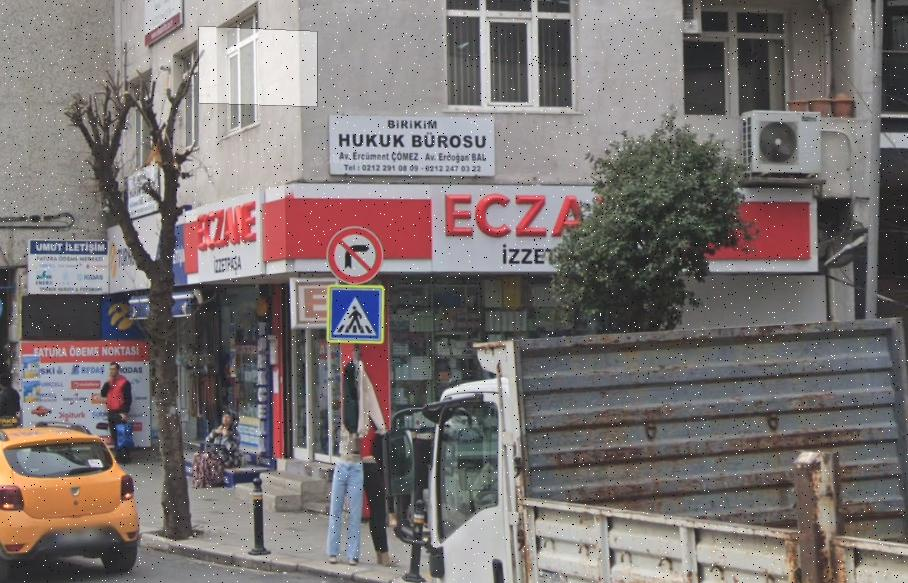rightturnsareforbidden: (330, 229, 382, 282)
